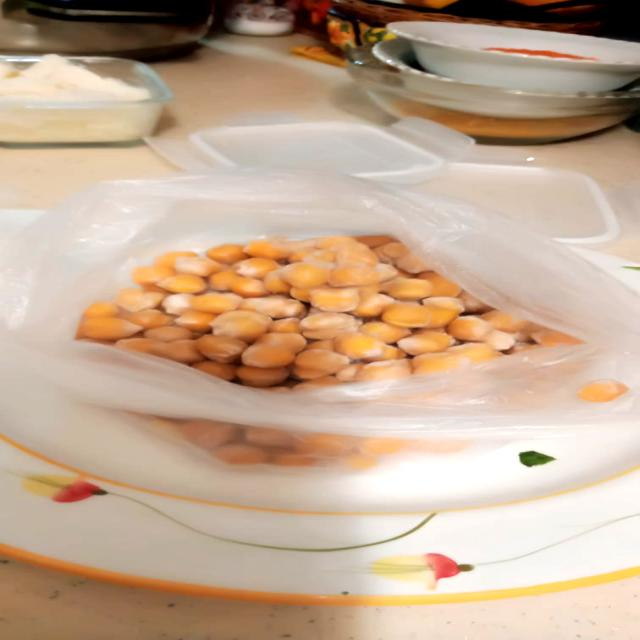chickpeas: (138, 244, 455, 365)
